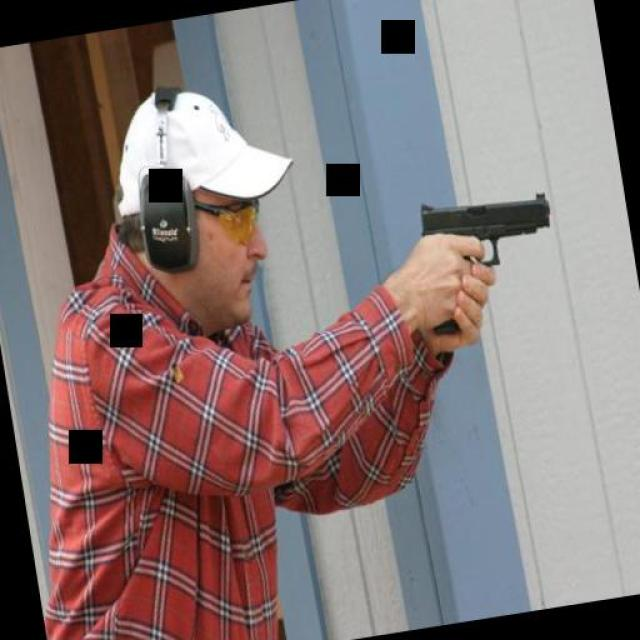gun: (409, 182, 565, 338)
